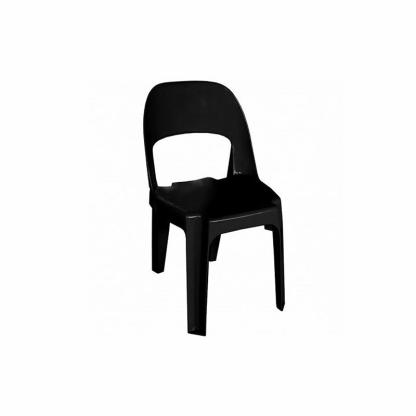chair: (138, 79, 290, 338)
